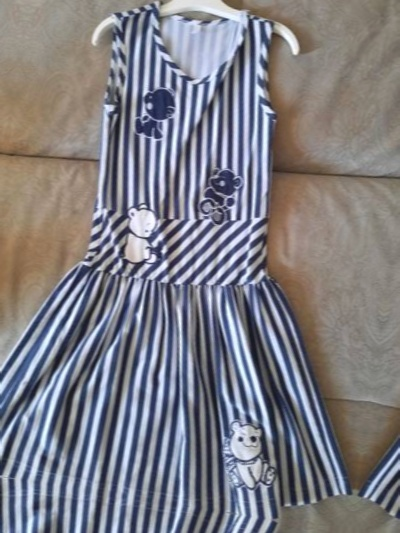Dress: (0, 0, 400, 525), (359, 37, 400, 533), (0, 478, 340, 533), (0, 0, 25, 462)
